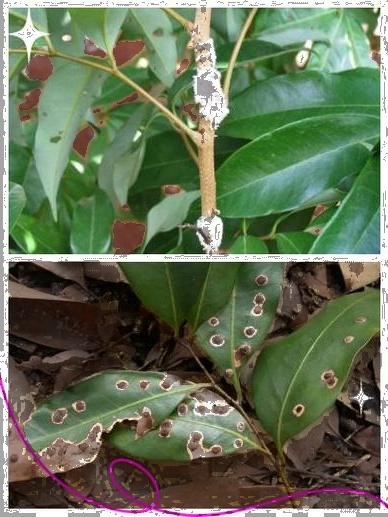Anthracnose: (36, 379, 253, 475), (288, 318, 373, 438), (210, 276, 304, 365)
